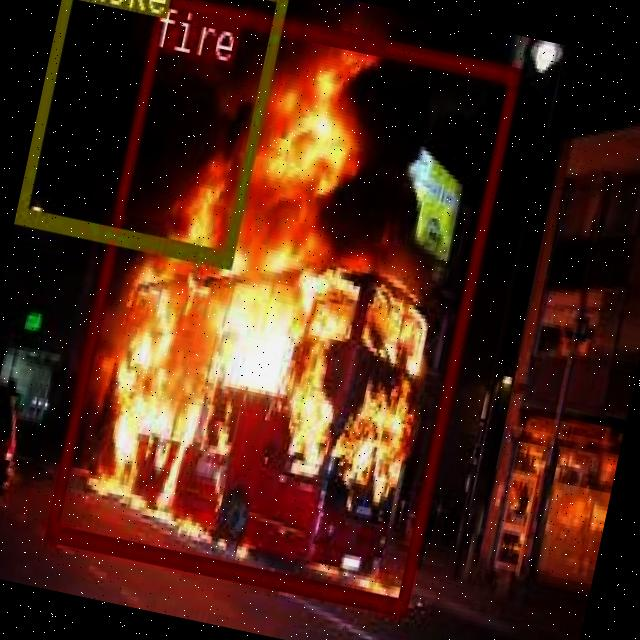fire: (44, 0, 518, 613)
smoke: (14, 0, 287, 265)
